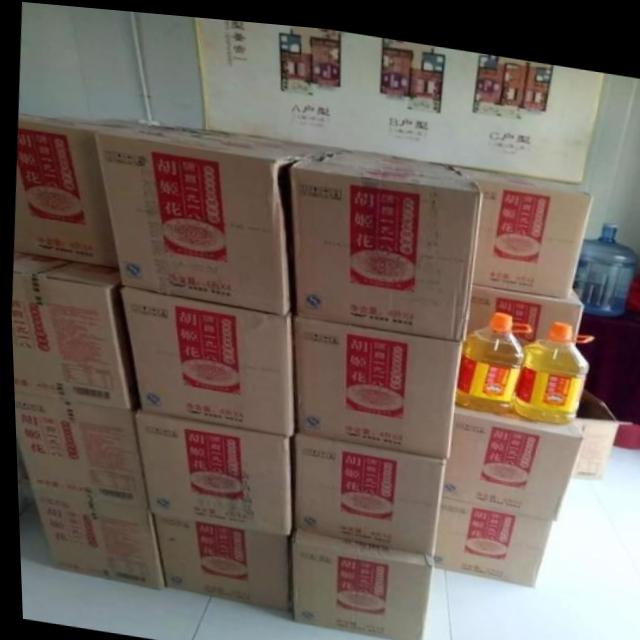box: (98, 122, 331, 310), (287, 149, 481, 331), (115, 283, 294, 429), (290, 308, 459, 451), (10, 249, 135, 408), (132, 407, 289, 530), (446, 155, 591, 288), (16, 113, 141, 262), (286, 429, 443, 545), (433, 397, 581, 512), (287, 524, 429, 637), (11, 391, 146, 502), (151, 509, 289, 606), (28, 487, 163, 586), (427, 485, 548, 576), (461, 273, 580, 333), (171, 121, 349, 148), (570, 376, 619, 468), (335, 140, 454, 163), (13, 449, 27, 515)
